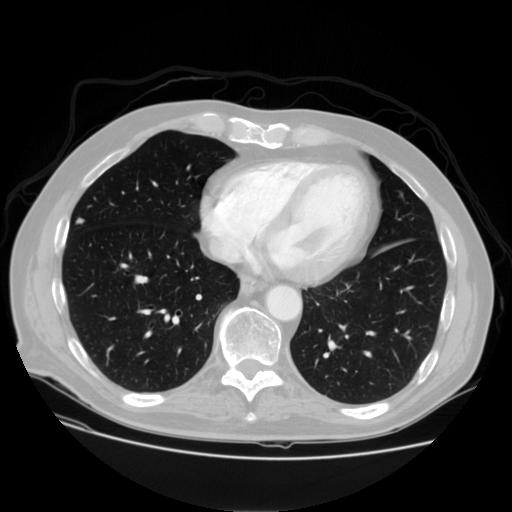nodule: (73, 213, 87, 227)
